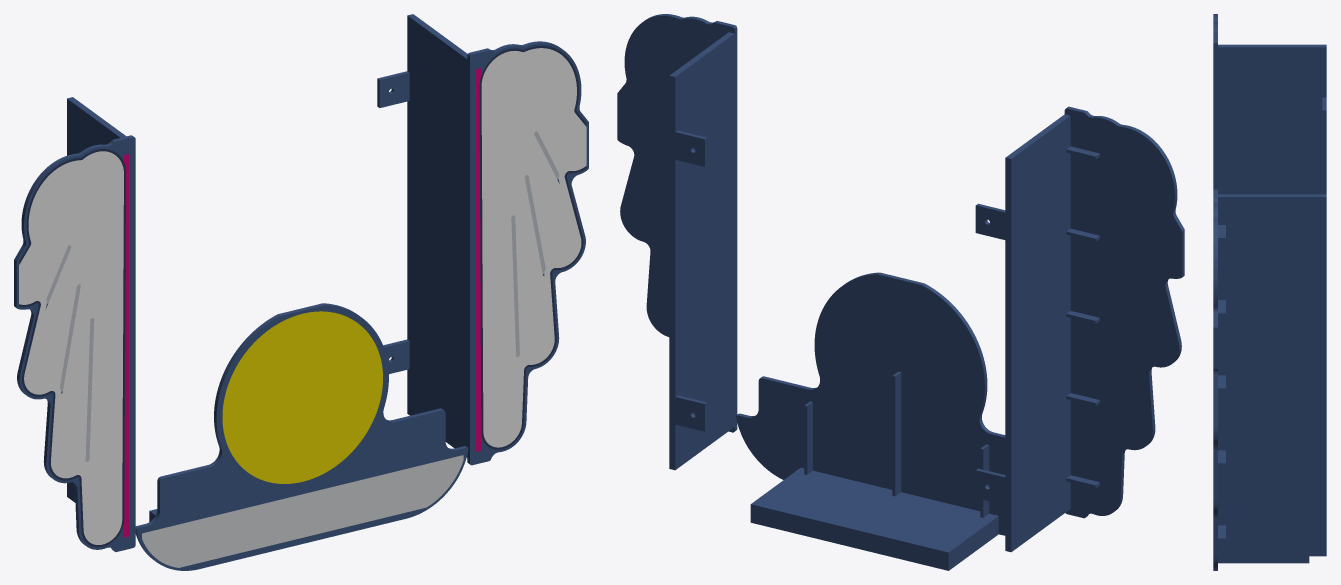
The model's file is parts.glb.
The picture shows the model from 3 angles, left to right: view 1: azimuth 30°, elevation 25°; view 2: azimuth 150°, elevation 25°; view 3: azimuth 270°, elevation 25°; orthographic projection. The views are drawn at different scales.
Visible parts, largest first — view 1: wing_right__base, wing_left__white, wing_right__white, topper__yellow, topper__base, topper__silver, wing_left__base, wing_left__ink, wing_right__ink, wing_left__red, wing_right__red, wing_left__grey (+1 smaller); view 2: wing_left__base, topper__base, wing_right__base; view 3: wing_right__base, wing_left__base, topper__base.
Boxes of the visible parts, x1,y1,x2,y2 form: wing_right__base: (377,14,588,465); wing_left__white: (19,151,123,544); wing_right__white: (481,48,586,447); topper__yellow: (222,311,382,483); topper__base: (135,303,468,570); topper__silver: (142,455,463,567); wing_left__base: (14,97,135,551); wing_left__ink: (19,149,125,547); wing_right__ink: (479,46,586,449); wing_left__red: (123,154,129,537); wing_right__red: (476,68,481,451); wing_left__grey: (46,245,94,461); wing_left__base: (975,106,1184,552); topper__base: (736,272,1005,570); wing_right__base: (617,14,737,470); wing_right__base: (1213,189,1326,570); wing_left__base: (1213,14,1326,194); topper__base: (1213,556,1309,570).
Bounding box in the file's own units: 385 × 288 × 73.01.
